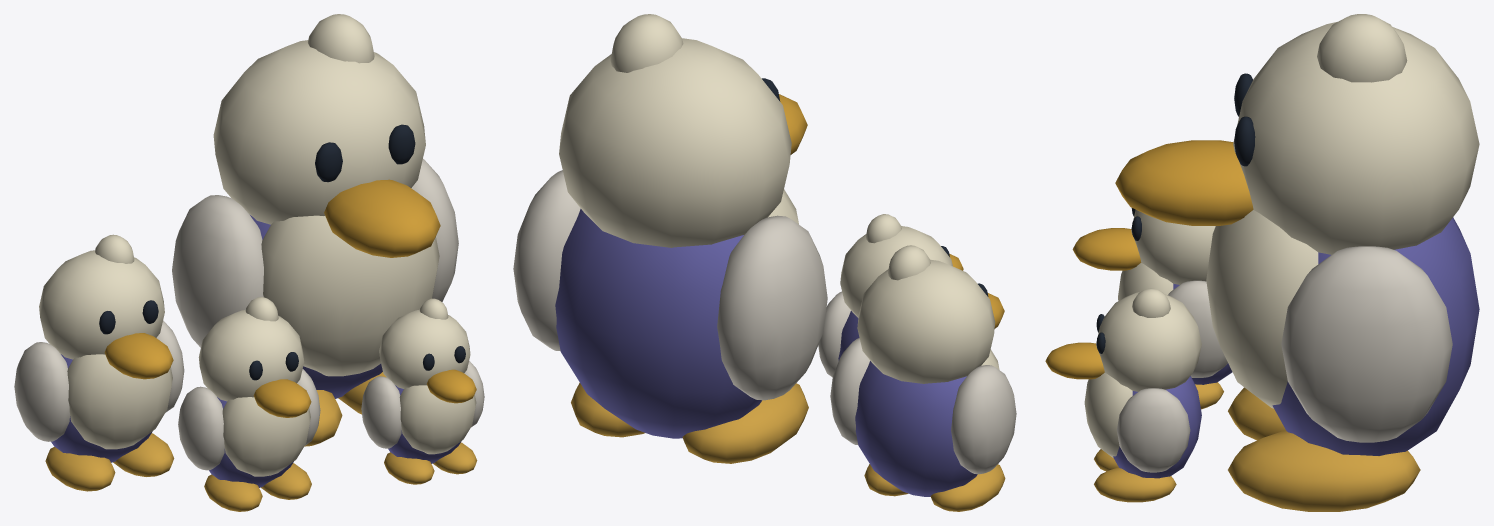
The model's file is wurstii-fluffin-puffins.glb.
3 renders of one model, left to right at view 1: azimuth 30°, elevation 25°; view 2: azimuth 150°, elevation 25°; view 3: azimuth 270°, elevation 25°, orthographic. The views are drawn at different scales.
Parts seen in each view (by area): view 1: wurstii-fluffin-puffins_geometry; view 2: wurstii-fluffin-puffins_geometry; view 3: wurstii-fluffin-puffins_geometry.
Part boxes in pixels (x1,y1,x2,y2): wurstii-fluffin-puffins_geometry: [14, 14, 484, 511]; wurstii-fluffin-puffins_geometry: [513, 14, 1016, 511]; wurstii-fluffin-puffins_geometry: [1045, 14, 1479, 511].
Size of the model in its own units: 0.54 by 0.4666 by 0.3897.
